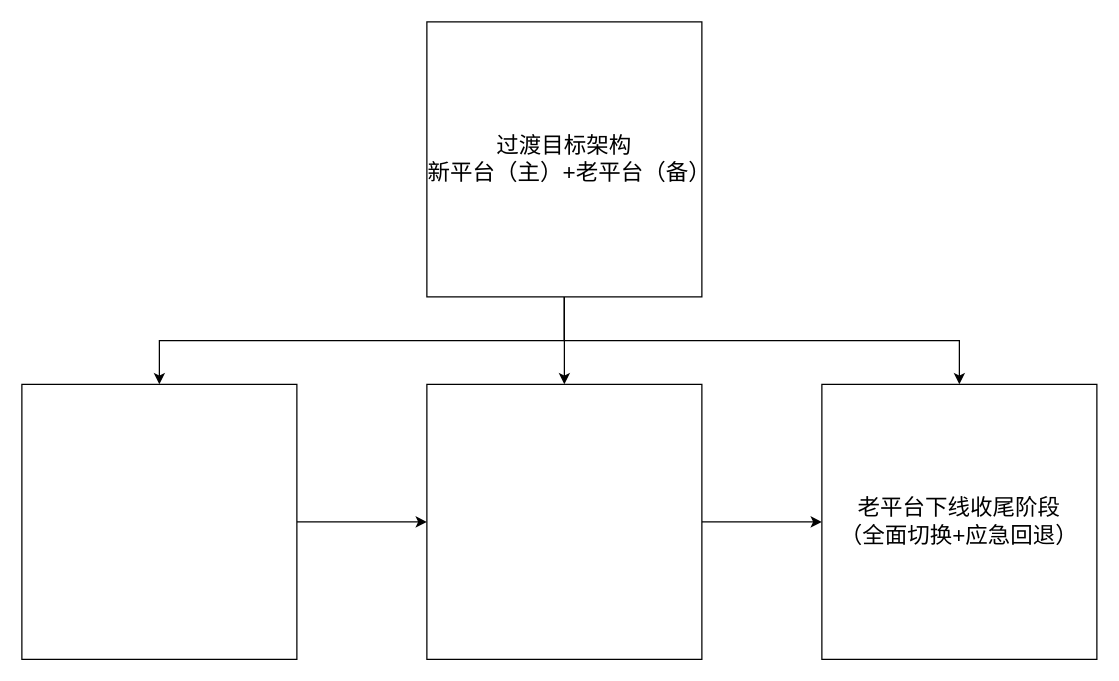
Some shapes in this 1119 by 681 pixel diagram are drawn without their labels. Each missing label, with the centre of its shape:
"数据双写阶段 （保证数据一致性）" belongs at (159,521).
"灰度切换阶段 （逐步替代老平台）" belongs at (564,521).
